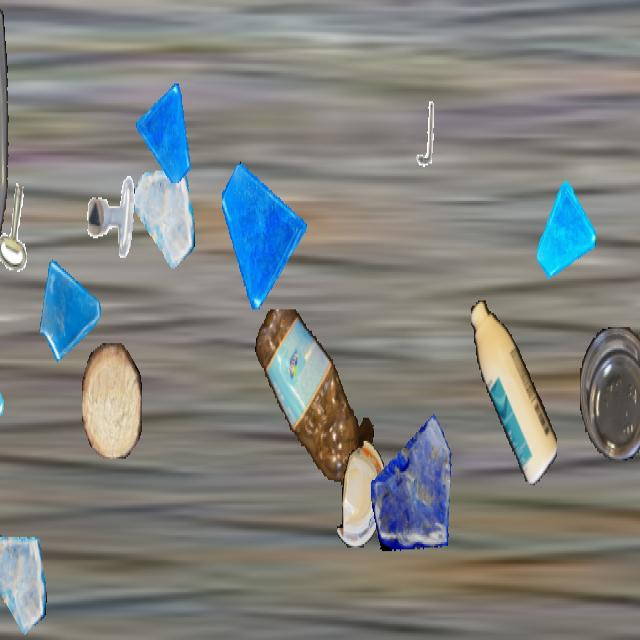glass: (371, 404, 457, 556), (222, 158, 306, 308), (37, 249, 103, 366), (134, 165, 194, 272), (537, 182, 595, 284), (136, 82, 192, 181), (0, 532, 47, 638), (0, 318, 5, 461)
metal: (86, 172, 138, 265), (0, 178, 45, 277), (404, 98, 444, 169), (639, 522, 640, 612)
plastic: (252, 310, 376, 483), (471, 300, 557, 486), (580, 327, 640, 459), (337, 441, 387, 547), (0, 2, 13, 314)
wood: (82, 343, 142, 457), (0, 16, 6, 73)
